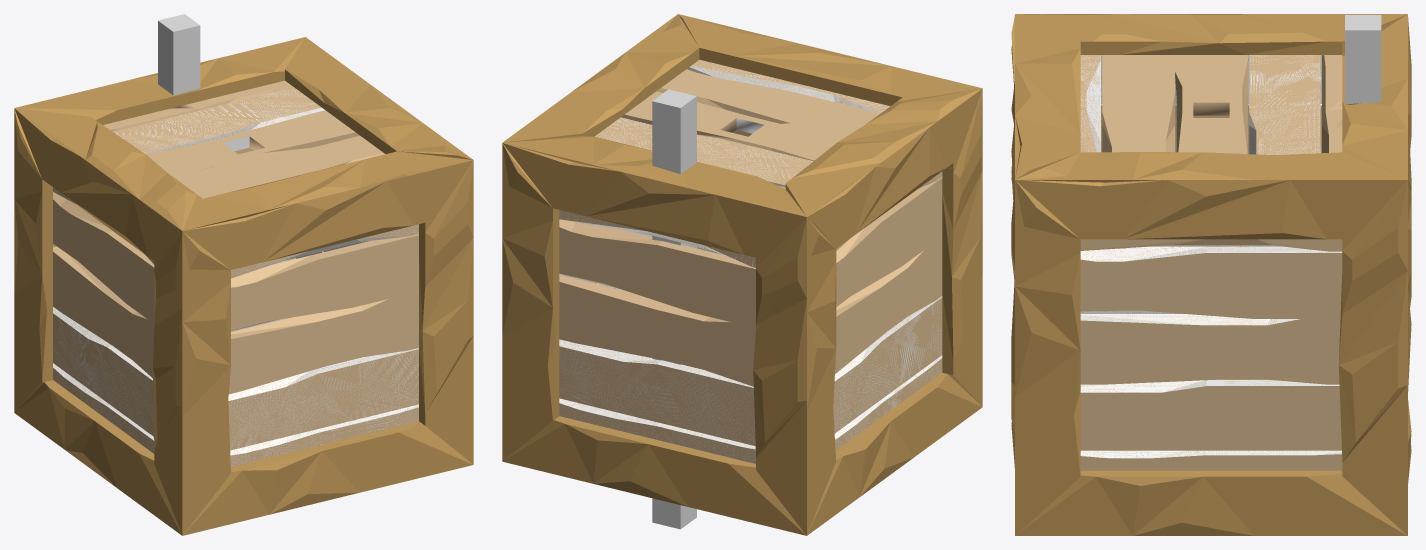
Rendered from Box_withHoless.fbx.
The picture shows the model from 3 angles, left to right: view 1: azimuth 30°, elevation 25°; view 2: azimuth 150°, elevation 25°; view 3: azimuth 270°, elevation 25°; orthographic projection. The views are drawn at different scales.
Parts seen in each view (by area): view 1: Mesh15, Mesh26, Mesh10, Mesh12, Mesh11, Mesh13, Mesh14, Mesh30, Mesh27, Mesh6, Mesh9, Mesh28 (+4 smaller); view 2: Mesh1, Mesh26, Mesh10, Mesh5, Mesh2, Mesh3, Mesh4, Mesh28, Mesh8, Mesh27, Mesh9, Mesh29 (+4 smaller); view 3: Mesh25, Mesh10, Mesh21, Mesh22, Mesh24, Mesh23, Mesh7, Mesh9, Mesh8, Mesh6, Cube, Mesh26 (+3 smaller).
Part boxes in pixels (x1,y1,x2,y2): Mesh15: (228, 224, 418, 466); Mesh26: (53, 187, 154, 453); Mesh10: (103, 80, 385, 198); Mesh12: (419, 160, 473, 464); Mesh11: (182, 421, 473, 535); Mesh13: (182, 160, 473, 269); Mesh14: (182, 231, 230, 535); Mesh30: (14, 109, 52, 412); Mesh27: (14, 380, 181, 535); Mesh6: (15, 37, 305, 124); Mesh9: (285, 37, 472, 159); Mesh28: (153, 231, 182, 534); Mesh1: (559, 210, 755, 463); Mesh26: (833, 171, 942, 450); Mesh10: (595, 59, 889, 188); Mesh5: (502, 143, 559, 460); Mesh2: (502, 416, 806, 535); Mesh3: (753, 217, 806, 535); Mesh4: (502, 143, 806, 257); Mesh28: (942, 89, 982, 406); Mesh8: (678, 14, 981, 106); Mesh27: (807, 372, 982, 535); Mesh9: (503, 14, 699, 142); Mesh29: (807, 88, 982, 248); Mesh25: (1080, 239, 1342, 470); Mesh10: (1080, 55, 1342, 154); Mesh21: (1015, 470, 1407, 535); Mesh22: (1338, 180, 1407, 535); Mesh24: (1015, 180, 1080, 535); Mesh23: (1015, 180, 1407, 239); Mesh7: (1015, 14, 1407, 54); Mesh9: (1015, 152, 1406, 182); Mesh8: (1015, 14, 1080, 179); Mesh6: (1342, 14, 1407, 179); Cube: (1345, 15, 1381, 104); Mesh26: (1080, 55, 1321, 313).
Size of the model in its own units: 550 by 714 by 550.
